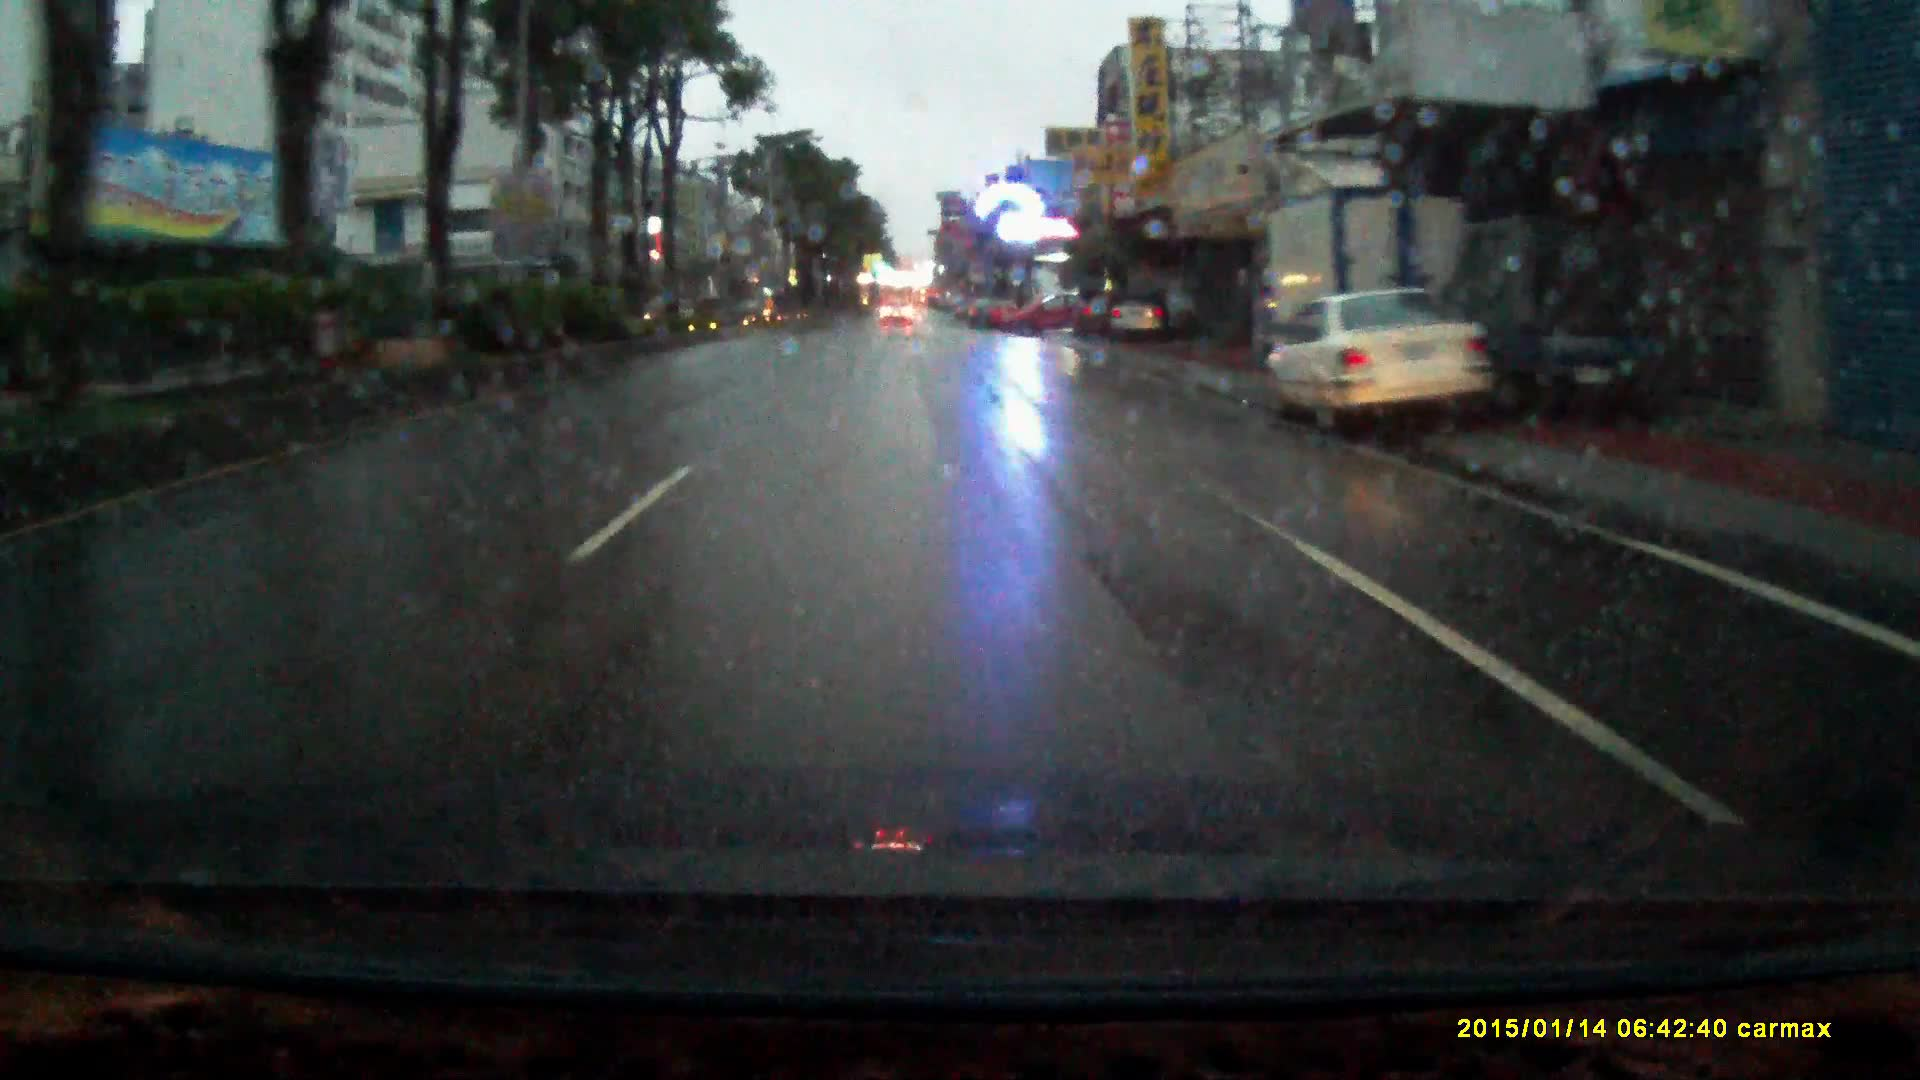vehicle: (1245, 164, 1519, 398), (1502, 212, 1729, 425), (1251, 284, 1506, 431), (1000, 289, 1091, 338), (1095, 291, 1166, 340), (881, 298, 914, 328)
